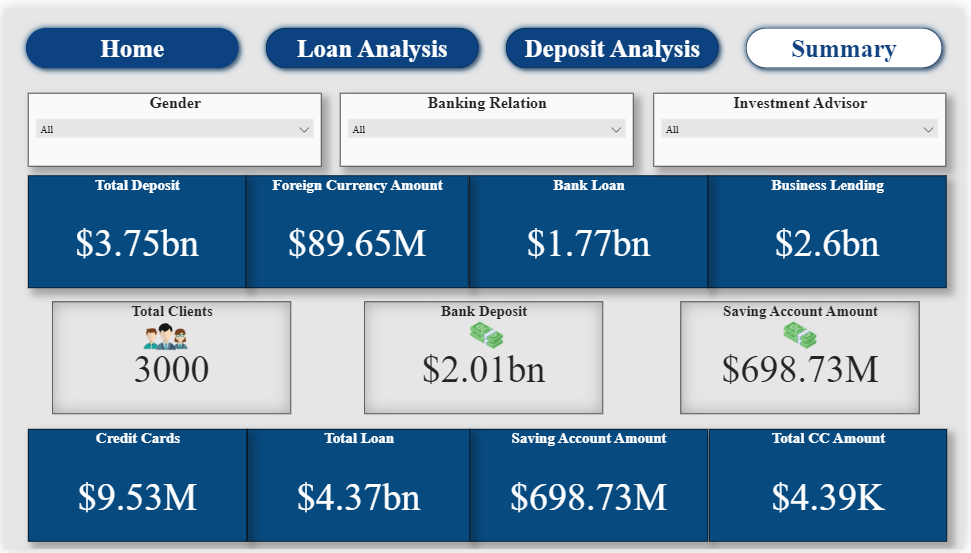

What the dashboard file says about the page in this screenshot:
{"tool":"powerbi","page":{"name":"Summary","canvas":[1280,720],"ordinal":3},"visuals":[{"type":"shape","box":[960,16,320,72],"z":0},{"type":"shape","box":[640,16,342,72],"z":1000},{"type":"shape","box":[320,16,342,72],"z":2000},{"type":"slicer","title":"Banking Relation","fields":{"Values":["Clients - Banking.Banking Relationship"]},"box":[447.9,112,391.2,97.8],"z":3000},{"type":"slicer","title":"Gender","fields":{"Values":["Clients - Banking.Gender.Gender"]},"box":[31.2,112,391.2,97.8],"z":4000},{"type":"card","title":"Business Lending","fields":{"Values":["Sum(Clients - Banking.Business Lending)"]},"box":[938.3,222.5,318.9,150.2],"z":5000},{"type":"card","title":"Bank Loan","fields":{"Values":["Sum(Clients - Banking.Bank Loans)"]},"box":[619.4,222.5,318.9,150.2],"z":6000},{"type":"card","title":"Foreign Currency Amount","fields":{"Values":["Sum(Clients - Banking.Foreign Currency Account)"]},"box":[321.7,222.5,297.6,150.2],"z":7000},{"type":"card","title":"Saving Account Amount","fields":{"Values":["Banking Relationship.Saving Account Amount"]},"box":[620.8,559.8,318.9,150.2],"z":8000},{"type":"card","title":"Total Loan","fields":{"Values":["Banking Relationship.Total Loan"]},"box":[323.1,559.8,297.6,150.2],"z":9000},{"type":"card","title":"Credit Cards","fields":{"Values":["Sum(Clients - Banking.Credit Card Balance)"]},"box":[31.2,559.8,292,150.2],"z":10000},{"type":"card","title":"Saving Account Amount","fields":{"Values":["Banking Relationship.Saving Account Amount"]},"box":[901.4,389.8,318.9,150.2],"z":11000},{"type":"card","title":"Total Clients","fields":{"Values":["CountNonNull(Clients - Banking.Client ID)"]},"box":[63.8,389.8,318.9,150.2],"z":12000},{"type":"card","title":"Bank Deposit","fields":{"Values":["Sum(Clients - Banking.Bank Deposits)"]},"box":[480.5,389.8,318.9,150.2],"z":13000},{"type":"image","box":[144,416,144,40],"z":14000},{"type":"image","box":[578.3,411,130.4,45],"z":18000},{"type":"image","box":[996.4,411,130.4,45],"z":19000},{"type":"slicer","title":"Investment Advisor","fields":{"Values":["Clients - Banking.Investment Advisor"]},"box":[866,112,389.8,97.8],"z":23000},{"type":"card","title":"Total Deposit","fields":{"Values":["Banking Relationship.Total Deposit"]},"box":[31.2,222.5,290.6,150.2],"z":24000},{"type":"card","title":"Total CC Amount","fields":{"Values":["Banking Relationship.Total CC Amount"]},"box":[939.7,559.8,317.5,150.2],"z":25000},{"type":"shape","box":[0,16,342,72],"z":28000}]}

Visuals, with their boxes in screenshot pixels (x1, y1, x2, y2), scaled from the page's 1280x720 canvas onto the 971x553 screenshot:
shape: crop(728, 12, 970, 68)
shape: crop(486, 12, 745, 68)
shape: crop(243, 12, 502, 68)
"Banking Relation" slicer: crop(340, 86, 637, 161)
"Gender" slicer: crop(24, 86, 320, 161)
"Business Lending" card: crop(712, 171, 954, 286)
"Bank Loan" card: crop(470, 171, 712, 286)
"Foreign Currency Amount" card: crop(244, 171, 470, 286)
"Saving Account Amount" card: crop(471, 430, 713, 545)
"Total Loan" card: crop(245, 430, 471, 545)
"Credit Cards" card: crop(24, 430, 245, 545)
"Saving Account Amount" card: crop(684, 299, 926, 415)
"Total Clients" card: crop(48, 299, 290, 415)
"Bank Deposit" card: crop(365, 299, 606, 415)
image: crop(109, 320, 218, 350)
image: crop(439, 316, 538, 350)
image: crop(756, 316, 855, 350)
"Investment Advisor" slicer: crop(657, 86, 953, 161)
"Total Deposit" card: crop(24, 171, 244, 286)
"Total CC Amount" card: crop(713, 430, 954, 545)
shape: crop(0, 12, 259, 68)
